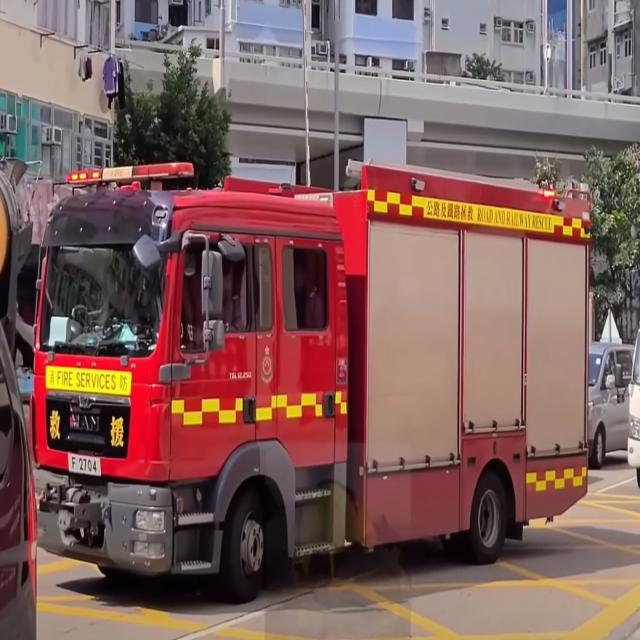ambulance: (31, 153, 597, 581)
